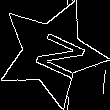N_NW: (20, 24, 83, 82)
